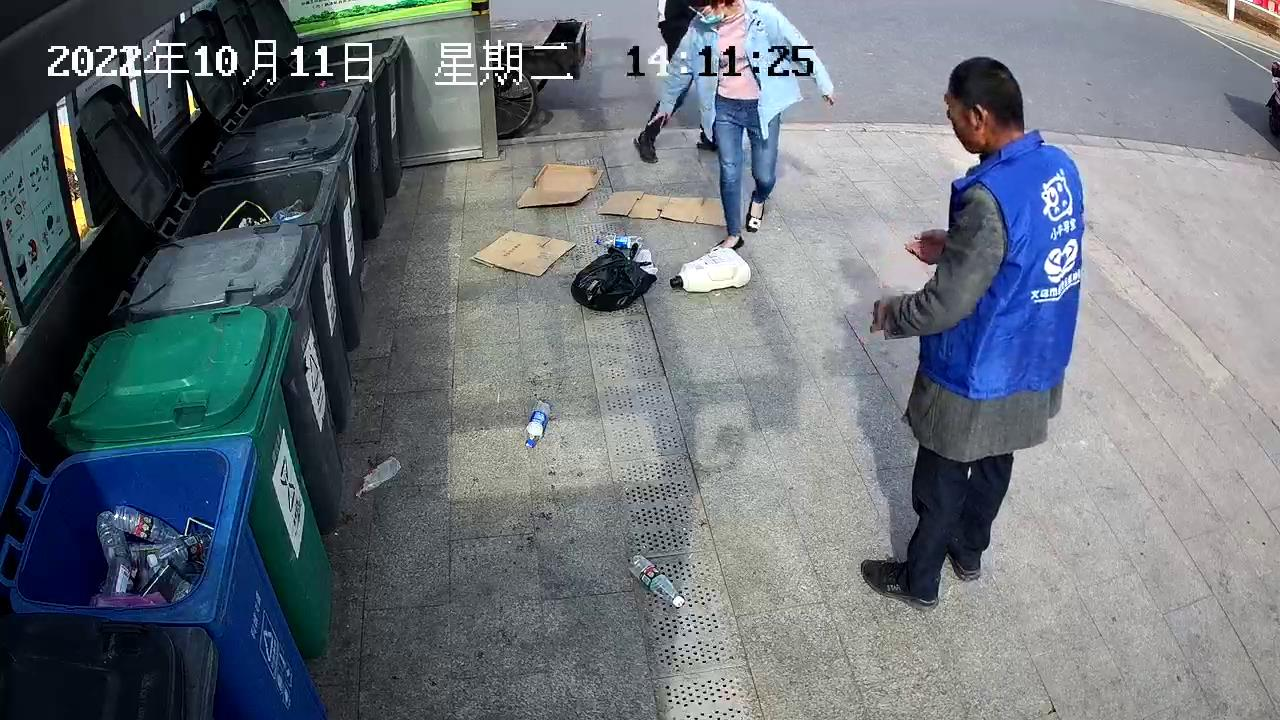garbage-bag: (569, 242, 660, 312)
suliaozhipin: (668, 245, 752, 293), (625, 551, 686, 608), (354, 455, 402, 498), (523, 399, 552, 448), (592, 232, 646, 250)
zhizhipin: (469, 227, 578, 279), (596, 188, 729, 229), (515, 160, 606, 208)
